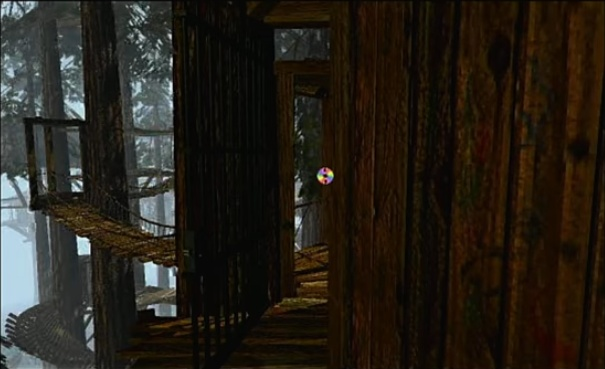Waiting: (314, 164, 337, 185)
